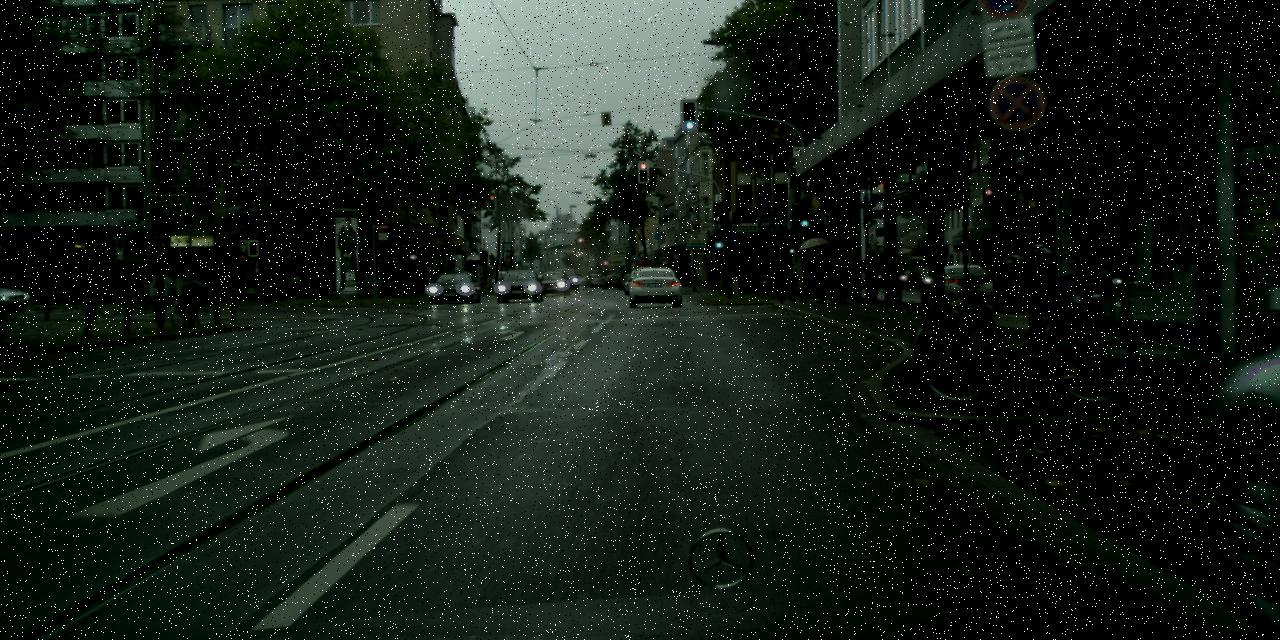ped: (808, 238, 834, 301), (830, 250, 850, 300), (772, 257, 790, 300)
